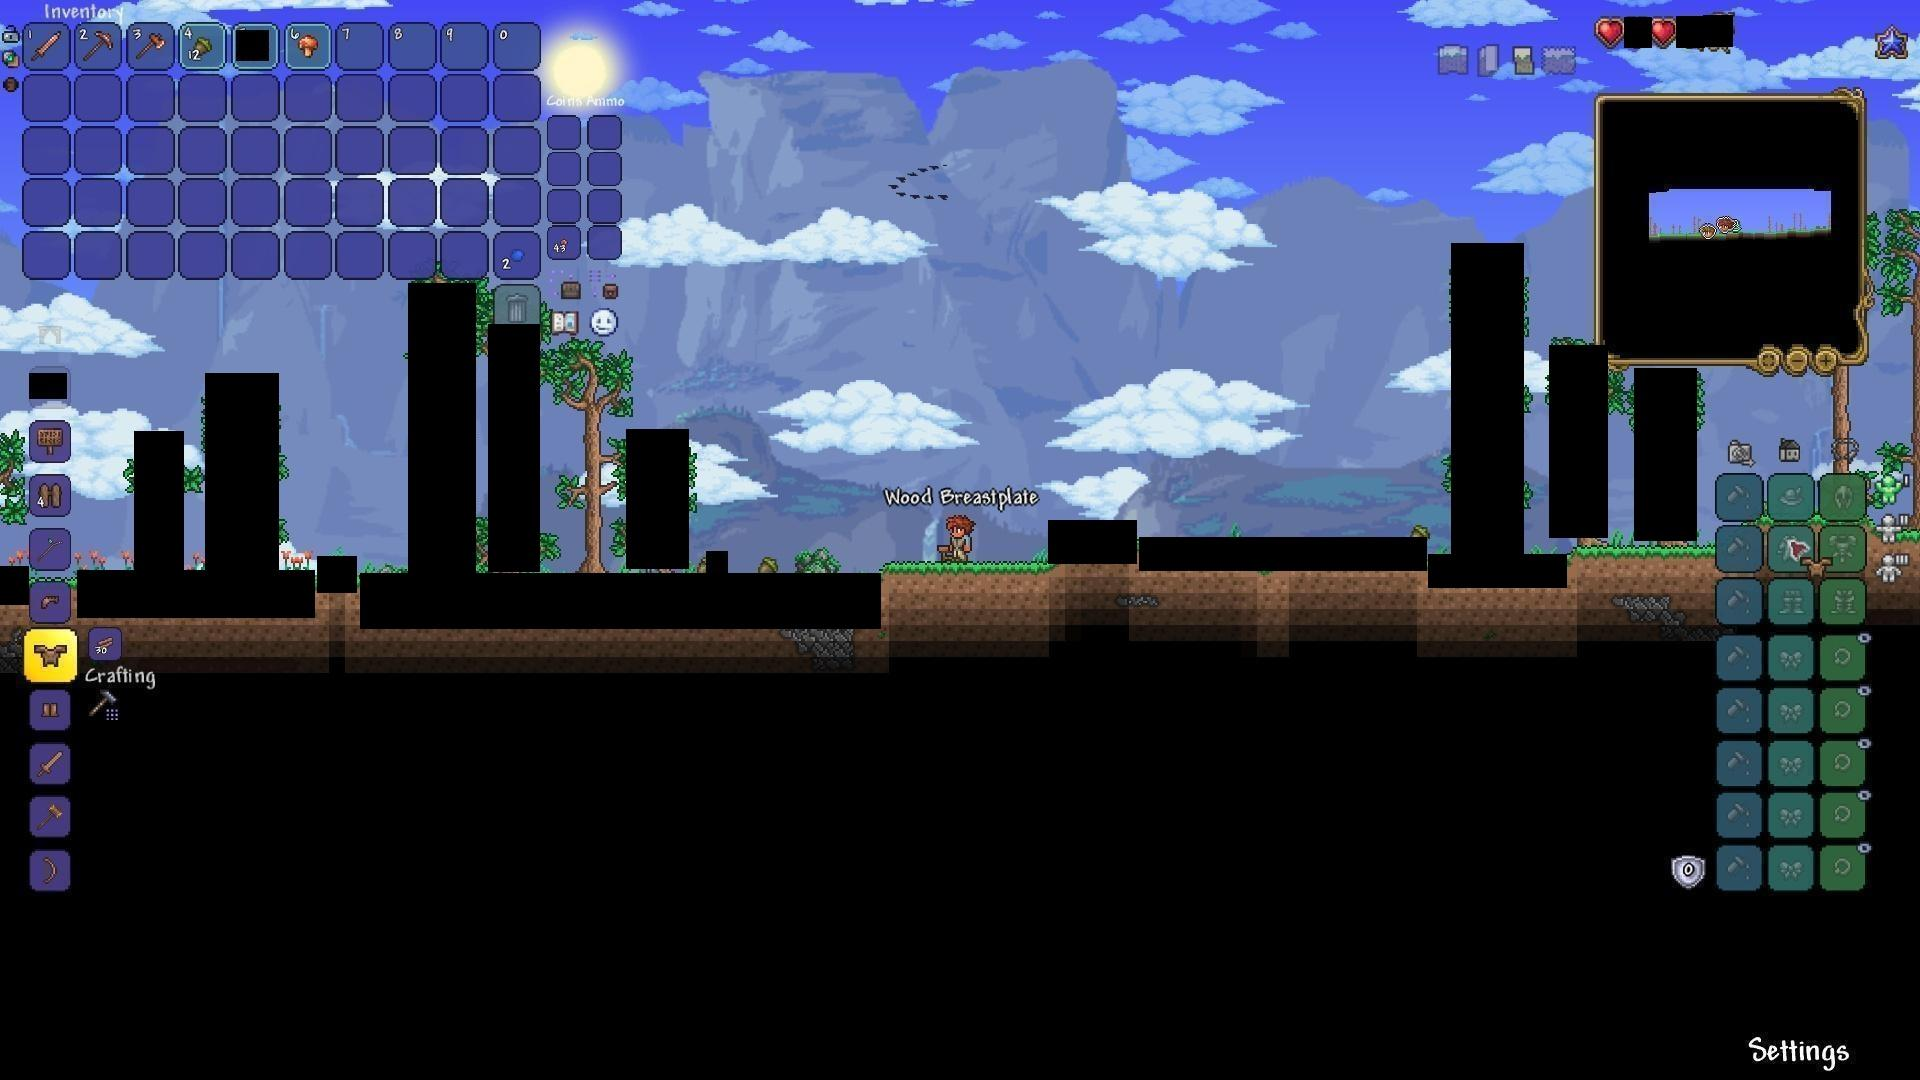breastplate: (33, 642, 67, 671), (1803, 558, 1832, 579)
dirt: (881, 560, 1043, 612), (1565, 541, 1714, 585)
heart: (1597, 15, 1626, 45), (1648, 17, 1676, 47)
helmet: (36, 588, 66, 616)
legs: (37, 695, 62, 724)
tree: (556, 342, 622, 571)
wood: (90, 632, 123, 661)
